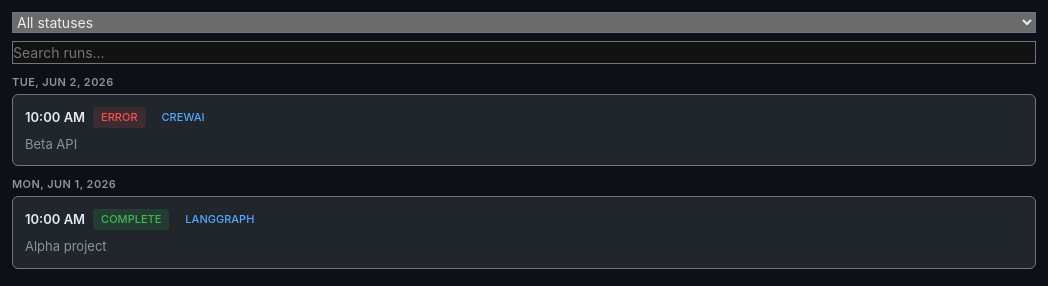
Test: RunList › shows filtered empty state with clear action
Type "nonexistent" into the search field with test id "run-list-search" at (524, 52), box [12, 41, 1036, 64]
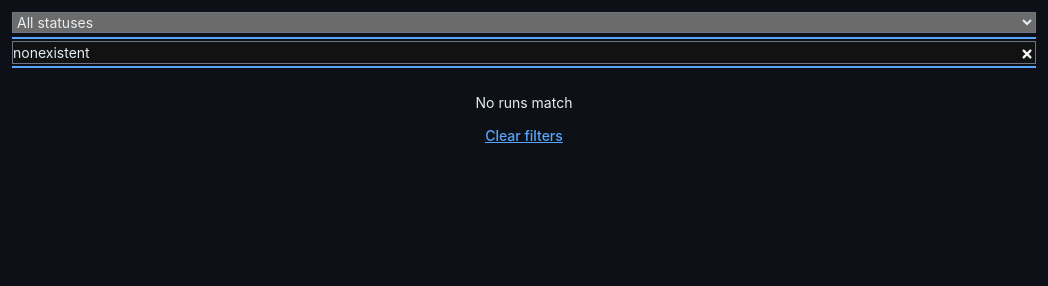
Check: the element with test id "run-list-empty-filtered" shows "No runs match", box [476, 94, 572, 111]
Check: the button with test id "run-list-clear-filters" is shown, box [485, 127, 563, 144]
